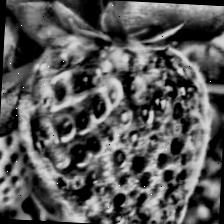Powdery Mildew Fruit: (11, 27, 216, 224)
